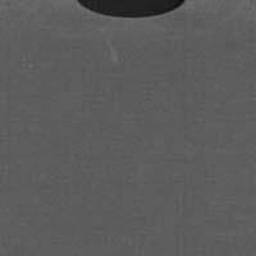Punching: (78, 0, 185, 18)
